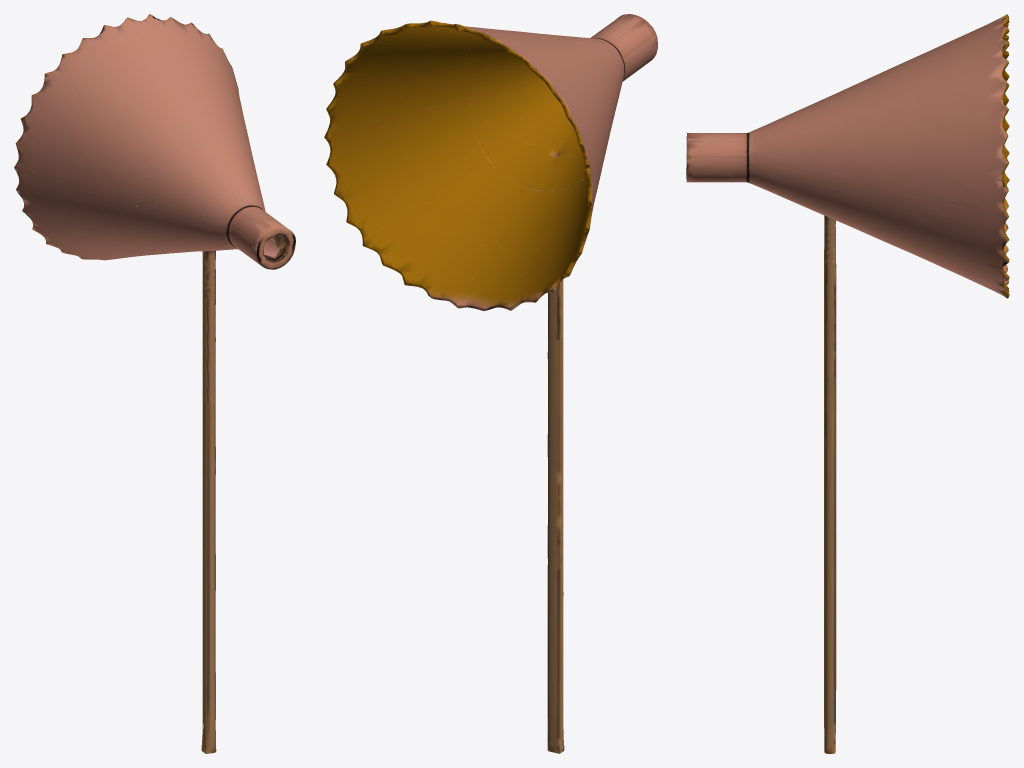
3 views of the same model, side by side, from view 1: azimuth 30°, elevation 25°; view 2: azimuth 150°, elevation 25°; view 3: azimuth 270°, elevation 25° (orthographic). The views are drawn at different scales.
Visible parts, largest first — view 1: tripo_node_9cf23ddd-24ae-4b2c-8ce5-566fcc6e79b4; view 2: tripo_node_9cf23ddd-24ae-4b2c-8ce5-566fcc6e79b4; view 3: tripo_node_9cf23ddd-24ae-4b2c-8ce5-566fcc6e79b4.
Boxes of the visible parts, x1=… form: tripo_node_9cf23ddd-24ae-4b2c-8ce5-566fcc6e79b4: x1=14, y1=14, x2=295, y2=753; tripo_node_9cf23ddd-24ae-4b2c-8ce5-566fcc6e79b4: x1=324, y1=14, x2=657, y2=753; tripo_node_9cf23ddd-24ae-4b2c-8ce5-566fcc6e79b4: x1=686, y1=14, x2=1009, y2=753.
Size of the model in its own units: 0.3514 by 1 by 0.4045.
1 material, 1 textured.
